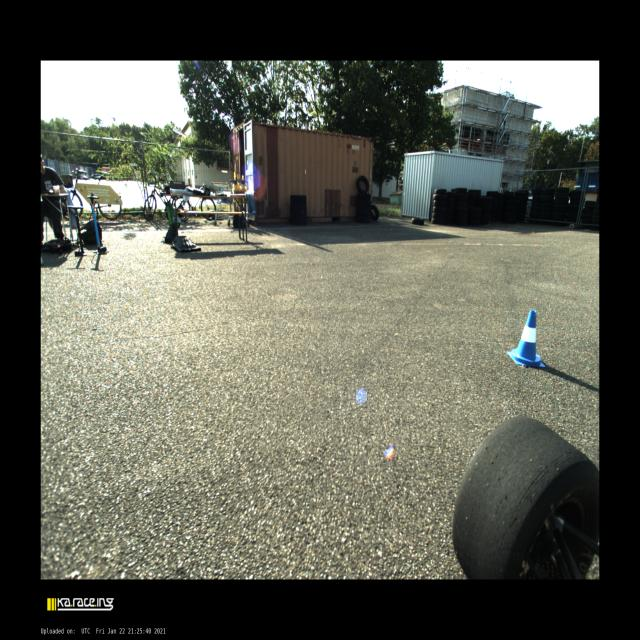blue_cone: (506, 310, 544, 367)
yellow_cone: (240, 175, 246, 190), (232, 177, 238, 190)
